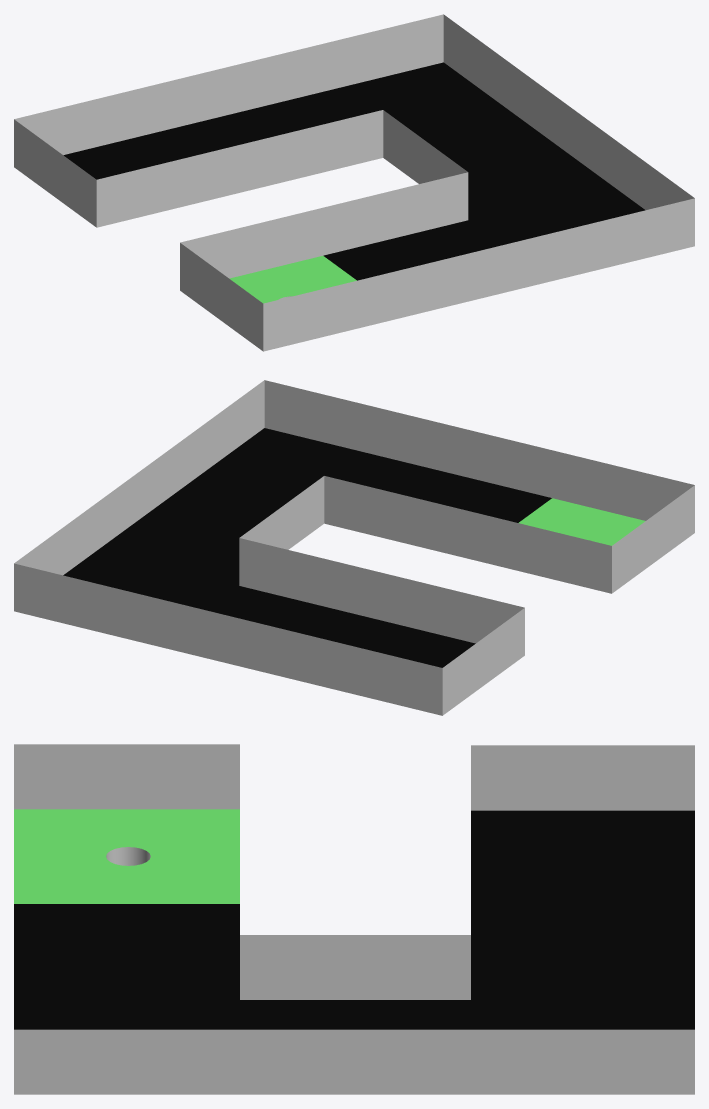
Rendered from map3.fbx.
The picture shows the model from 3 angles, top to bottom: view 1: azimuth 30°, elevation 25°; view 2: azimuth 150°, elevation 25°; view 3: azimuth 270°, elevation 25°; orthographic projection. The views are drawn at different scales.
Visible parts, largest first — view 1: pPlane6; view 2: pPlane6; view 3: pPlane6.
Boxes of the visible parts, x1,y1,x2,y2 form: pPlane6: [14, 14, 694, 351]; pPlane6: [14, 380, 694, 715]; pPlane6: [14, 744, 694, 1094].
Bounding box in the file's own units: 30.13 × 4.89 × 30.38.
